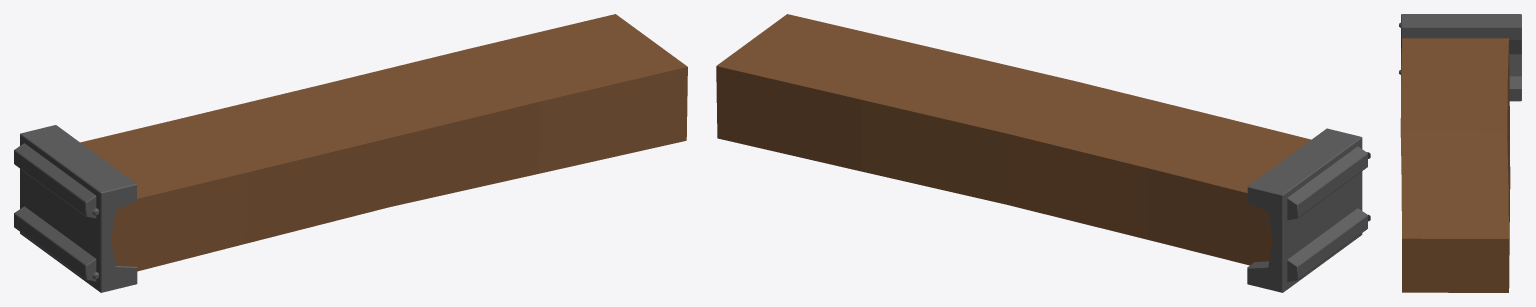
Rendered from DragBaffle.fbx.
3 views of the same model, side by side, from view 1: azimuth 30°, elevation 25°; view 2: azimuth 150°, elevation 25°; view 3: azimuth 270°, elevation 25° (orthographic). The views are drawn at different scales.
Parts seen in each view (by area): view 1: polySurface127; view 2: polySurface127; view 3: polySurface127.
Boxes of the visible parts, x1,y1,x2,y2 form: polySurface127: [14, 14, 687, 292]; polySurface127: [716, 14, 1370, 292]; polySurface127: [1399, 14, 1521, 292].
Size of the model in its own units: 0.9438 by 0.1518 by 0.2269.
